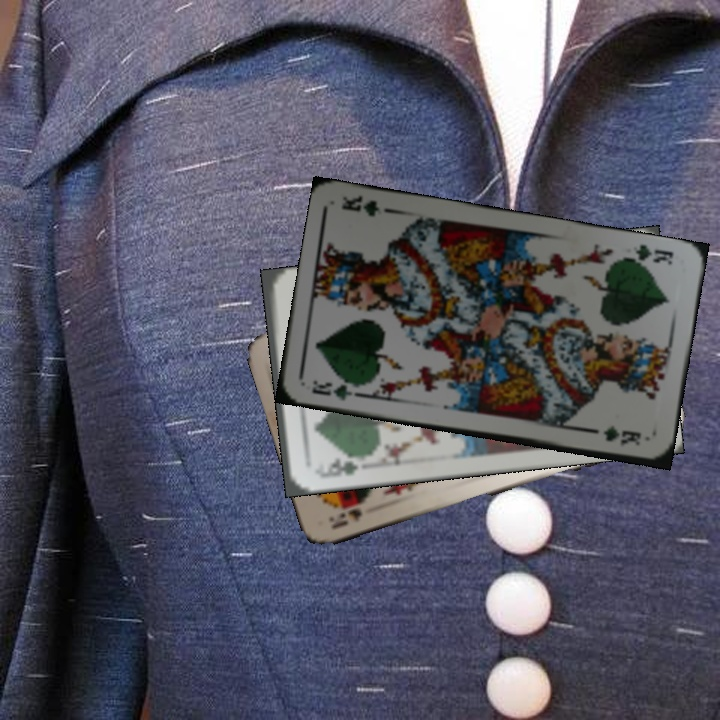GK: (619, 240, 676, 267), (307, 376, 363, 403), (314, 455, 361, 481)
SK: (324, 504, 364, 532)
